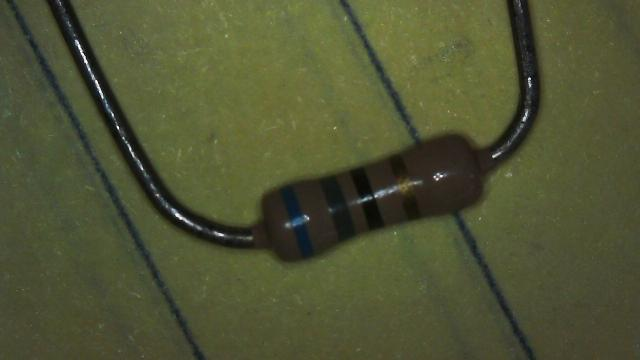black: (351, 166, 384, 229)
blue: (280, 185, 314, 258)
gold: (388, 154, 421, 220)
grey: (320, 175, 354, 240)
resistor: (231, 100, 514, 287)
